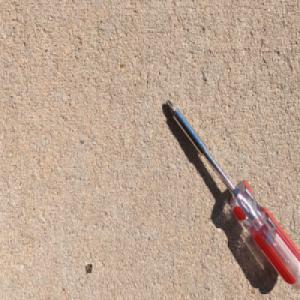Screwdriver: (165, 96, 300, 293)
